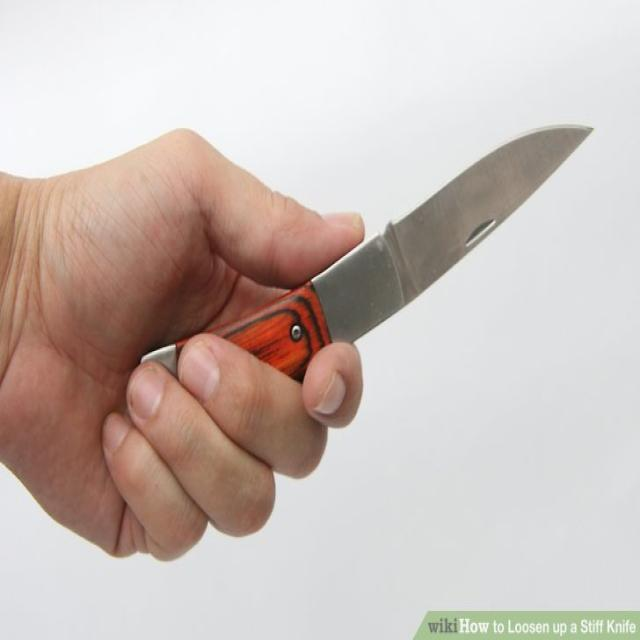knife: (134, 121, 595, 406)
